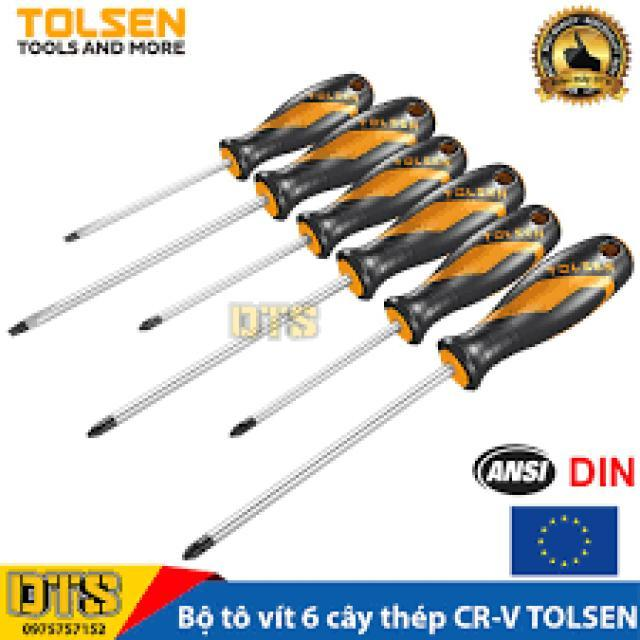screwdriver: (166, 229, 636, 573), (61, 154, 553, 452), (0, 98, 455, 349), (213, 196, 572, 455), (122, 132, 475, 352), (56, 69, 388, 248)
